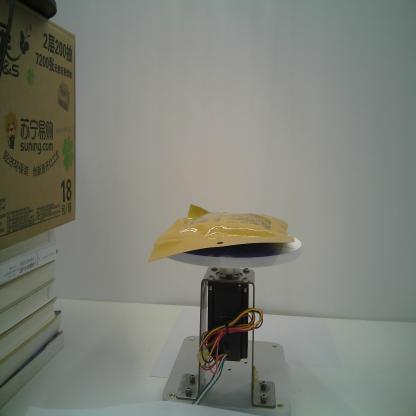Dried Fruit: (146, 202, 295, 262)
